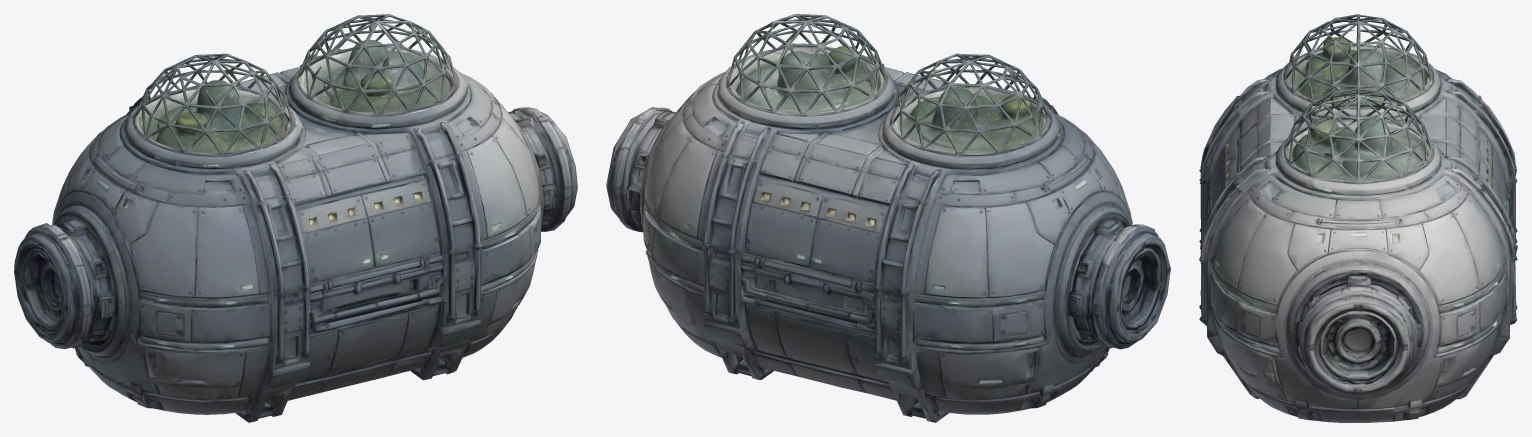
File: lako.glb
3 renders of one model, left to right at view 1: azimuth 30°, elevation 25°; view 2: azimuth 150°, elevation 25°; view 3: azimuth 270°, elevation 25°, orthographic. The views are drawn at different scales.
Visible parts, largest first — view 1: lako_node; view 2: lako_node; view 3: lako_node.
Part boxes in pixels (x1,y1,x2,y2): lako_node: (14,14,577,422); lako_node: (606,14,1170,422); lako_node: (1199,14,1517,422).
Size of the model in its own units: 0.9771 by 0.5796 by 0.5679.
Materials: 1 (1 with a texture image).
